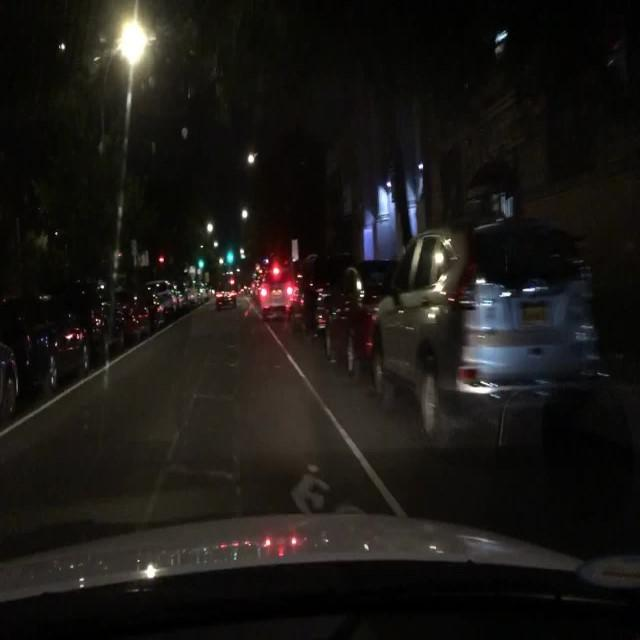normal: (369, 229, 613, 464), (214, 289, 237, 308)
